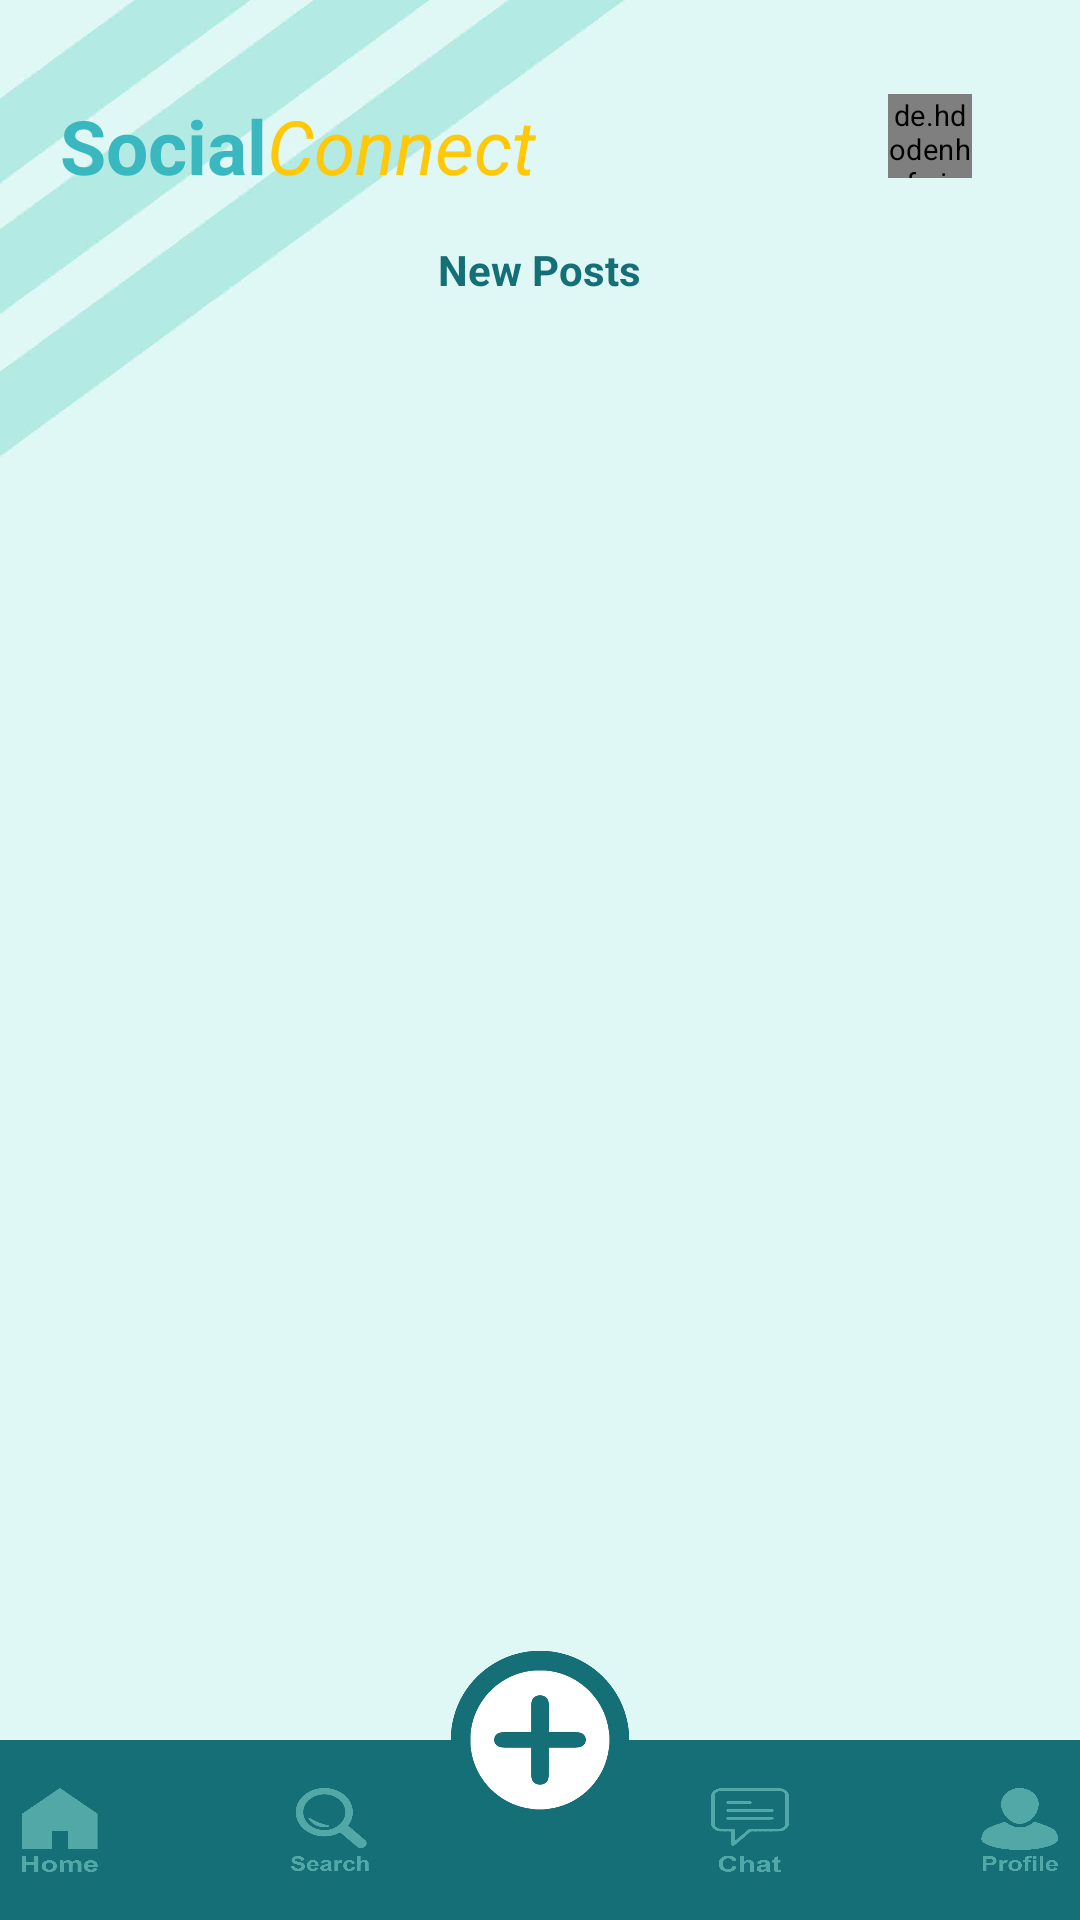

Point at icon controls on the screen. Image size 1080×1920, points as point (x, y).
plus sign: point (540, 1740)
